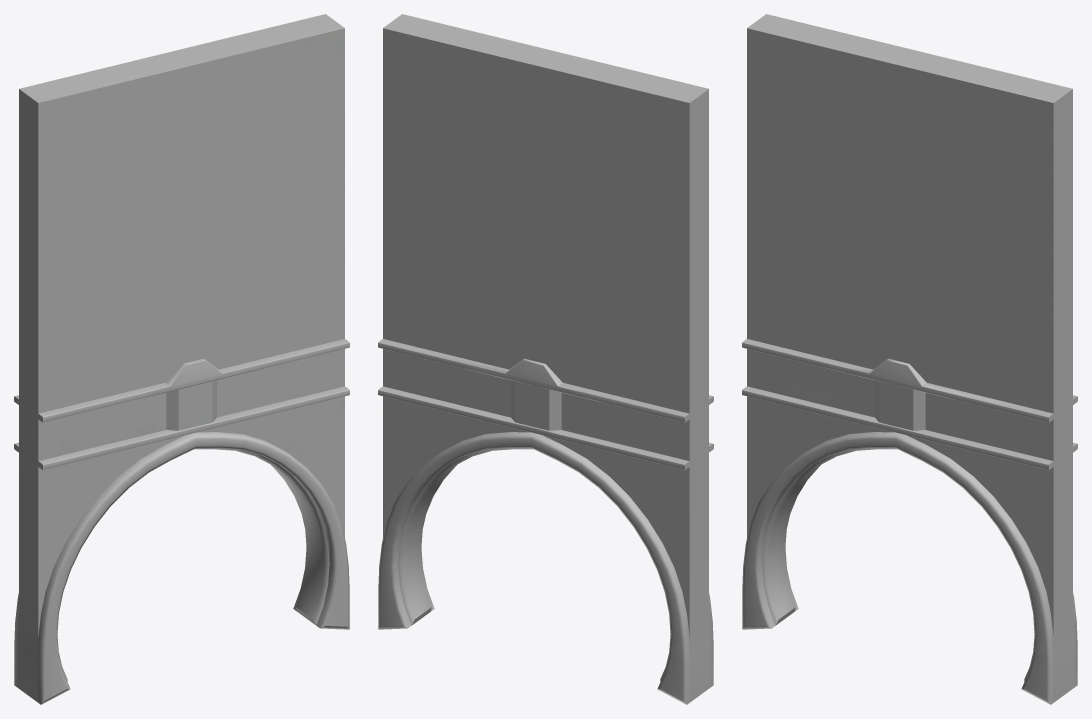
The model's file is patrick-arch-3.glb.
The picture shows the model from 3 angles, left to right: view 1: azimuth 30°, elevation 25°; view 2: azimuth 150°, elevation 25°; view 3: azimuth 330°, elevation 25°; orthographic projection.
Visible parts, largest first — view 1: Tanit_Arch_03; view 2: Tanit_Arch_03; view 3: Tanit_Arch_03.
Part boxes in pixels (box(x1,y1,x2,y2)): Tanit_Arch_03: box(14, 14, 349, 704); Tanit_Arch_03: box(378, 14, 713, 704); Tanit_Arch_03: box(742, 14, 1077, 704).
Bounding box in the file's own units: 0.0451 × 0.0837 × 0.00732.
1 material, 1 textured.
